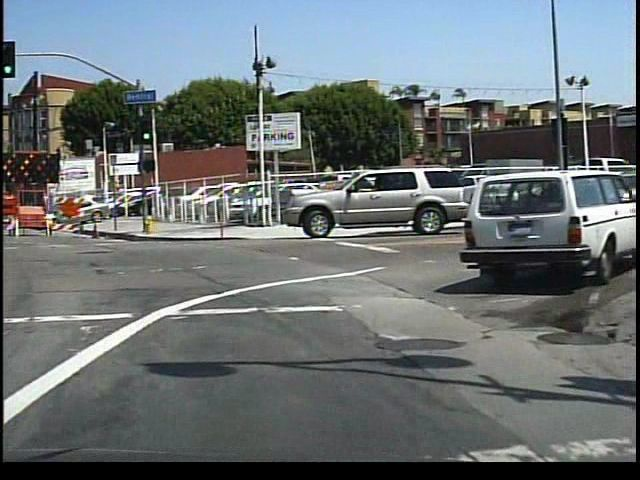person: (566, 162, 586, 205)
